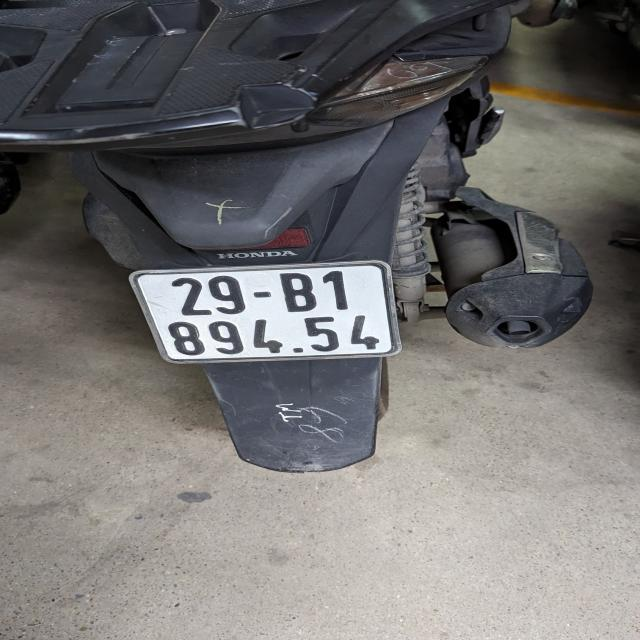License: (128, 260, 402, 364)
